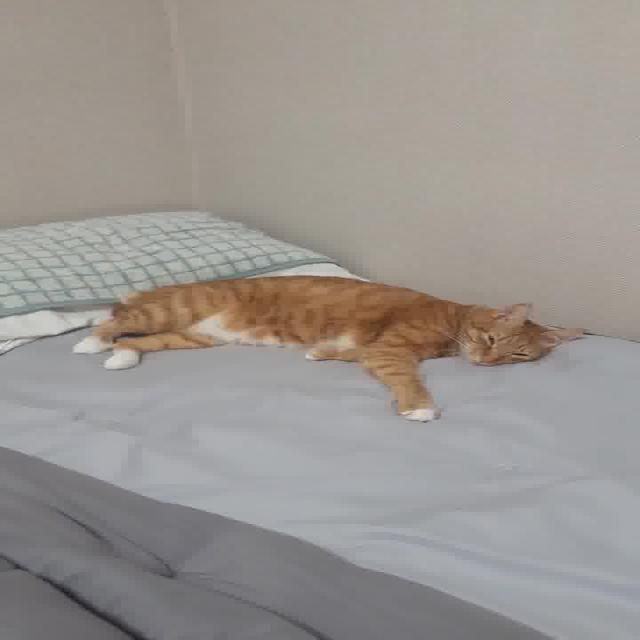cat: (0, 254, 607, 437)
